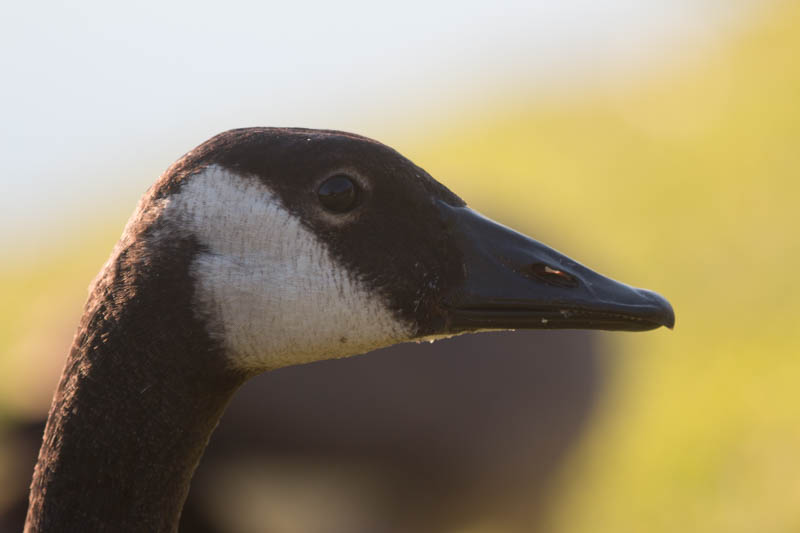goose-head: (108, 126, 676, 379)
